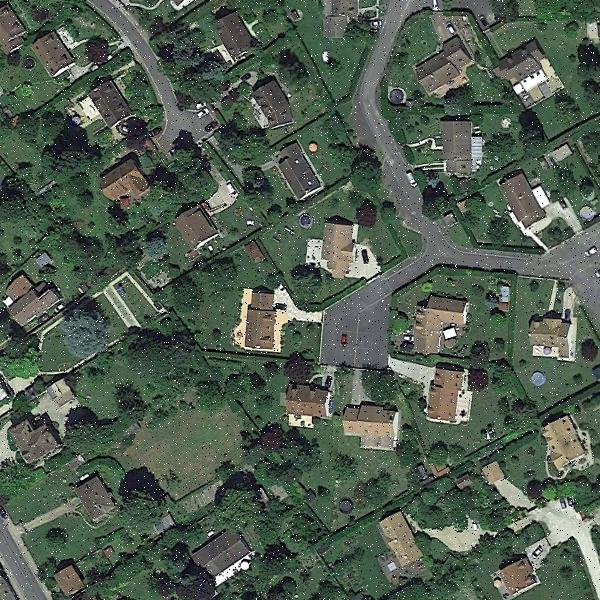Buildings: (414, 36, 474, 96), (5, 274, 63, 328), (414, 302, 470, 352), (524, 306, 574, 361), (438, 122, 484, 178), (280, 377, 331, 420), (318, 230, 364, 274), (507, 58, 556, 99), (245, 294, 278, 349), (431, 374, 468, 420), (214, 20, 264, 54), (18, 418, 54, 462), (30, 40, 74, 75), (384, 511, 409, 570), (204, 532, 240, 572), (282, 149, 314, 194), (348, 409, 394, 439), (510, 188, 544, 224), (76, 482, 110, 518), (550, 429, 584, 464), (178, 210, 214, 242), (260, 79, 286, 121), (112, 165, 140, 199), (500, 564, 534, 590), (0, 10, 24, 46), (98, 92, 124, 117), (58, 570, 74, 595)
